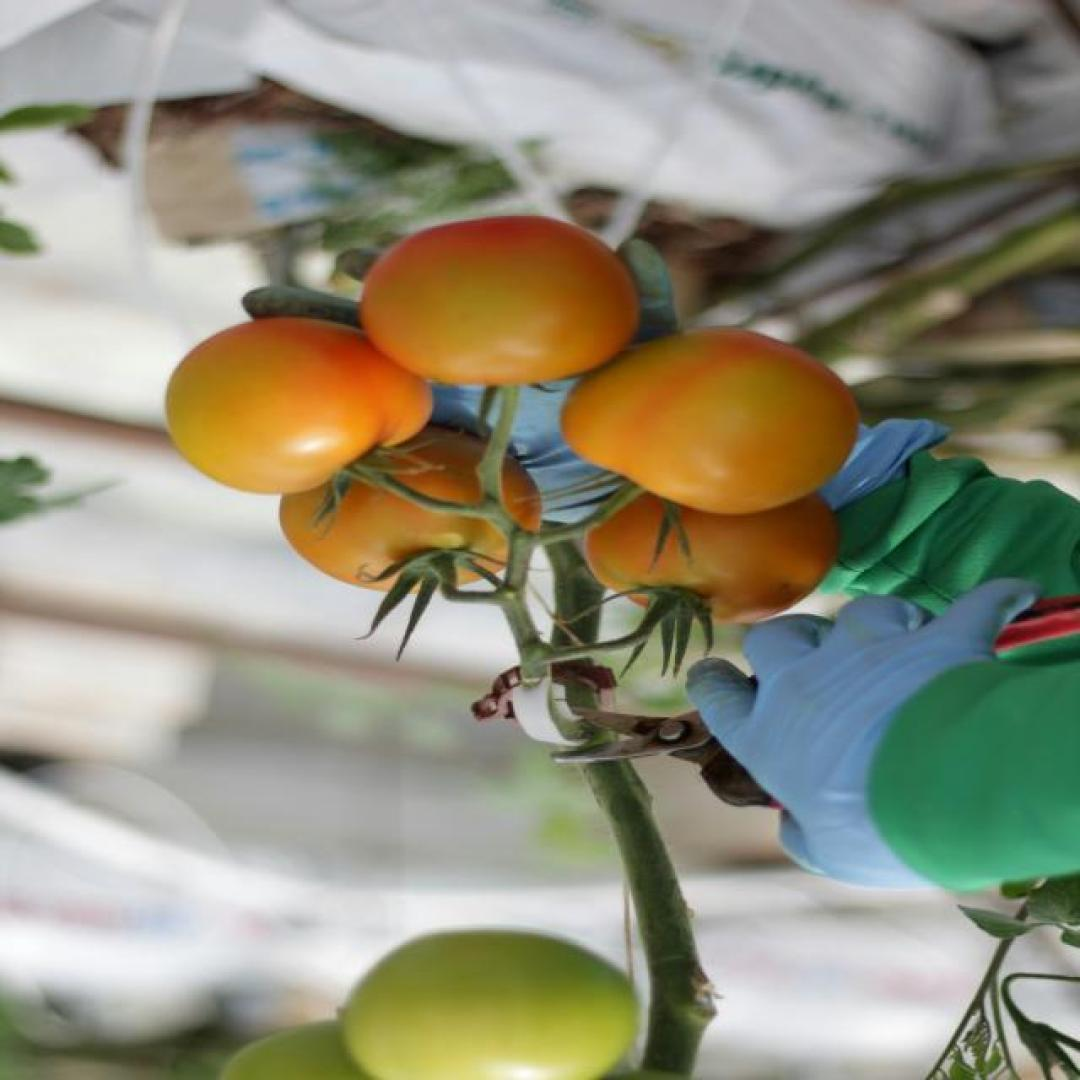setengah_matang: (557, 324, 861, 518), (356, 216, 645, 388), (162, 316, 437, 496), (277, 422, 548, 594), (580, 468, 843, 626)
